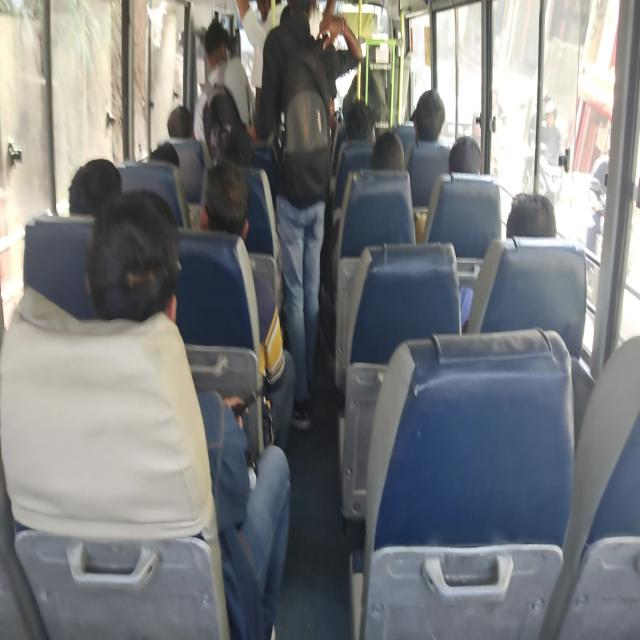person: (108, 212, 187, 324), (282, 0, 338, 146), (211, 31, 252, 114), (213, 166, 263, 234), (512, 197, 564, 253), (83, 156, 125, 222), (254, 0, 289, 77), (418, 98, 459, 163), (226, 128, 270, 180), (352, 106, 389, 147), (373, 133, 401, 179), (154, 144, 186, 184), (238, 124, 267, 160), (167, 112, 192, 150), (450, 137, 476, 168), (411, 106, 428, 127)
